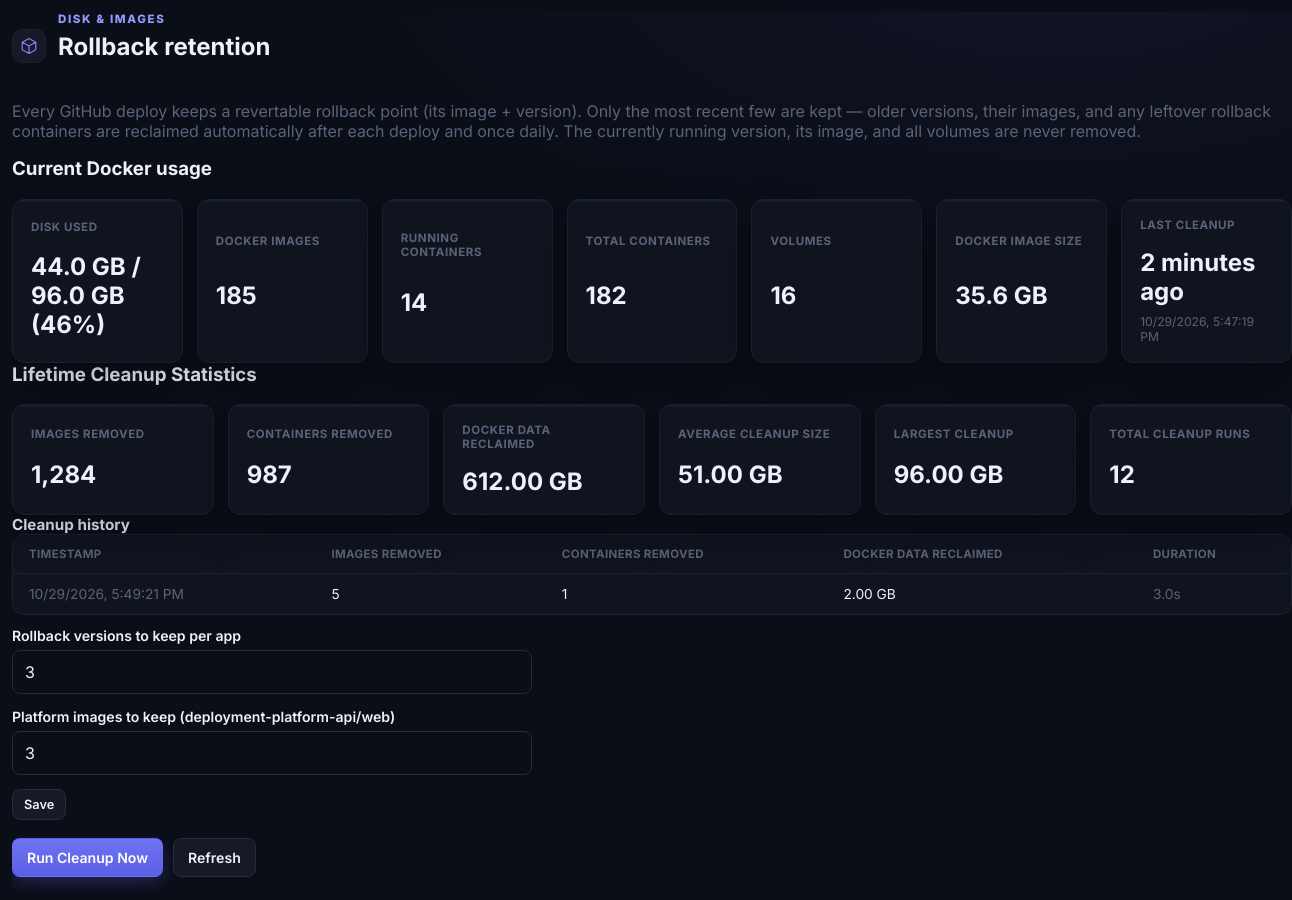
Test: DiskSettings › the completion banner shows a timestamp, is dismissible, and links to cleanup history
What coordinates should you click on to do the following:
click the button "Run Cleanup Now"
I would click on:
 (88, 858)
Its box is x1=12 y1=838 x2=163 y2=877.
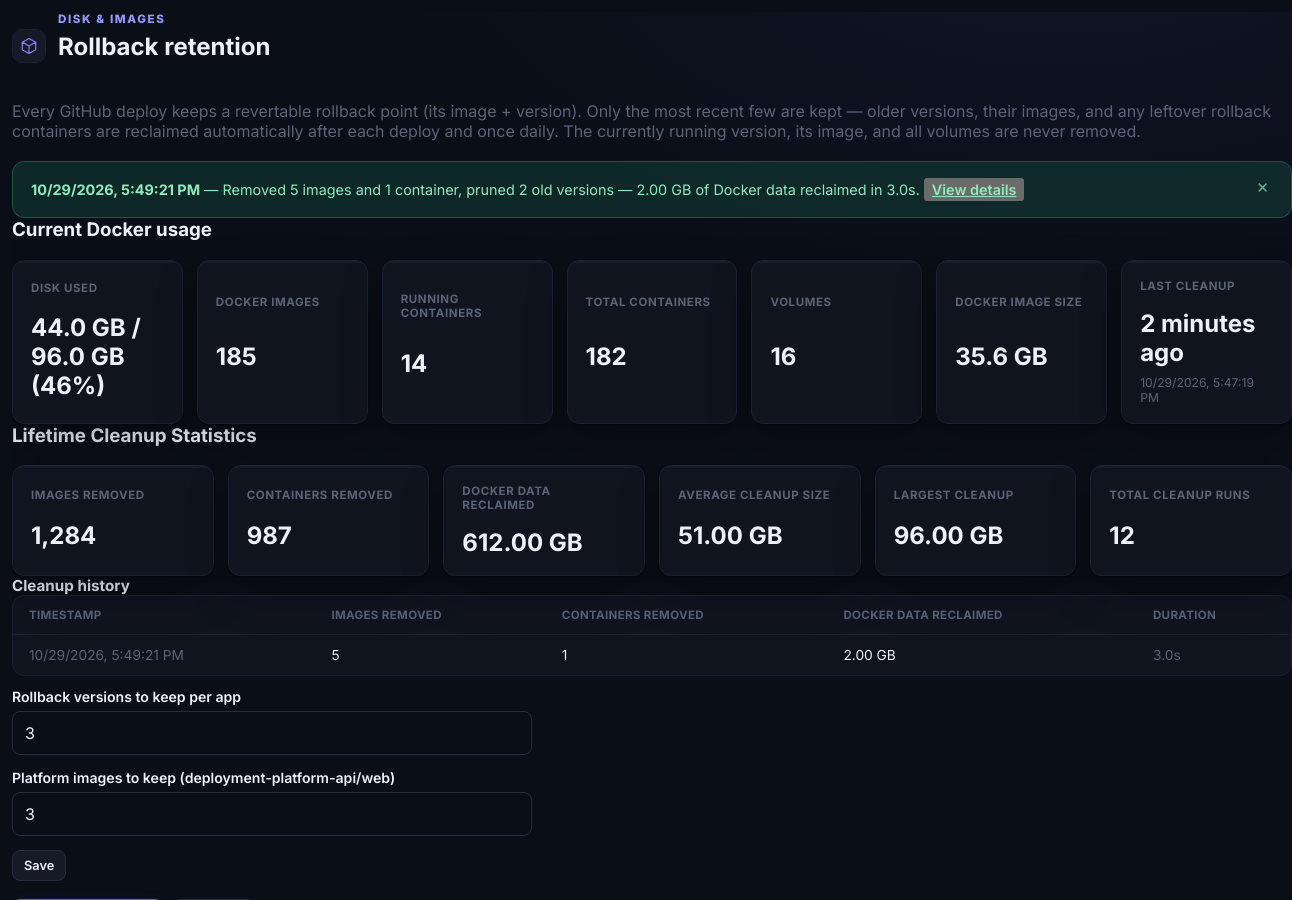
Expected: the heading "Cleanup history" is shown, x1=12 y1=576 x2=130 y2=595
Result: the text "View details" is shown at x1=924 y1=178 x2=1024 y2=201
Result: the text "10/29/2026, 5:49:21 PM" is shown at x1=31 y1=181 x2=200 y2=198
Dismiss the banner.
What coordinates should you click on to do the following:
click the button named "Dismiss"
I would click on:
 (1263, 188)
Its box is x1=1252 y1=178 x2=1273 y2=197.
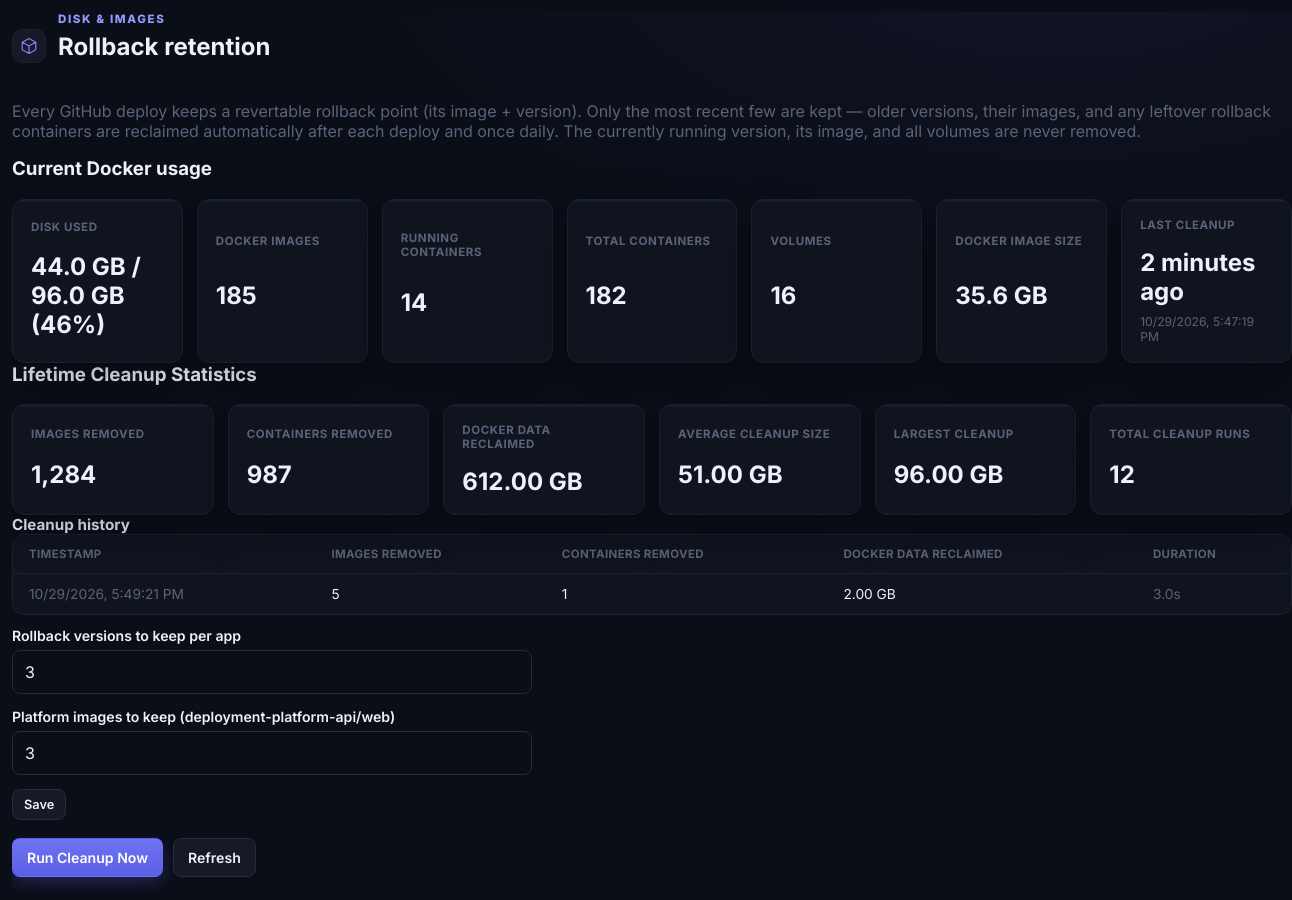
Result: the button "View details" is gone
